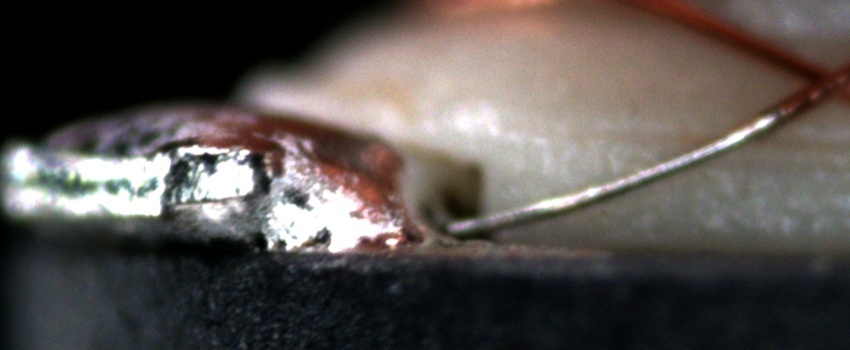CL: (779, 51, 847, 114)
DL: (530, 110, 850, 174)
TS: (447, 111, 781, 234)
